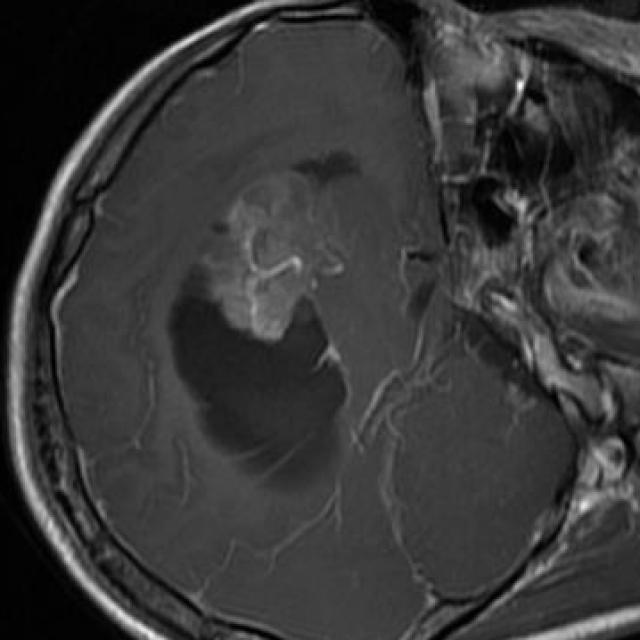glioma: (168, 152, 364, 501)
